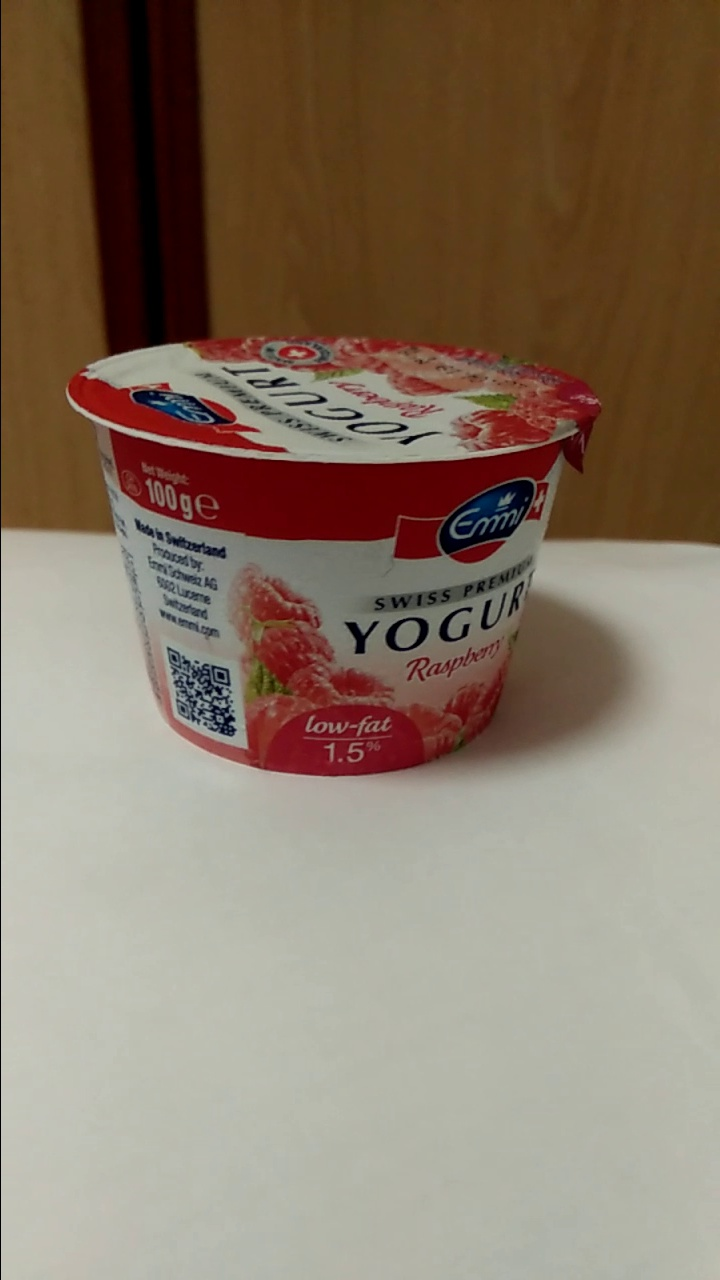yogurt: (66, 333, 599, 780)
